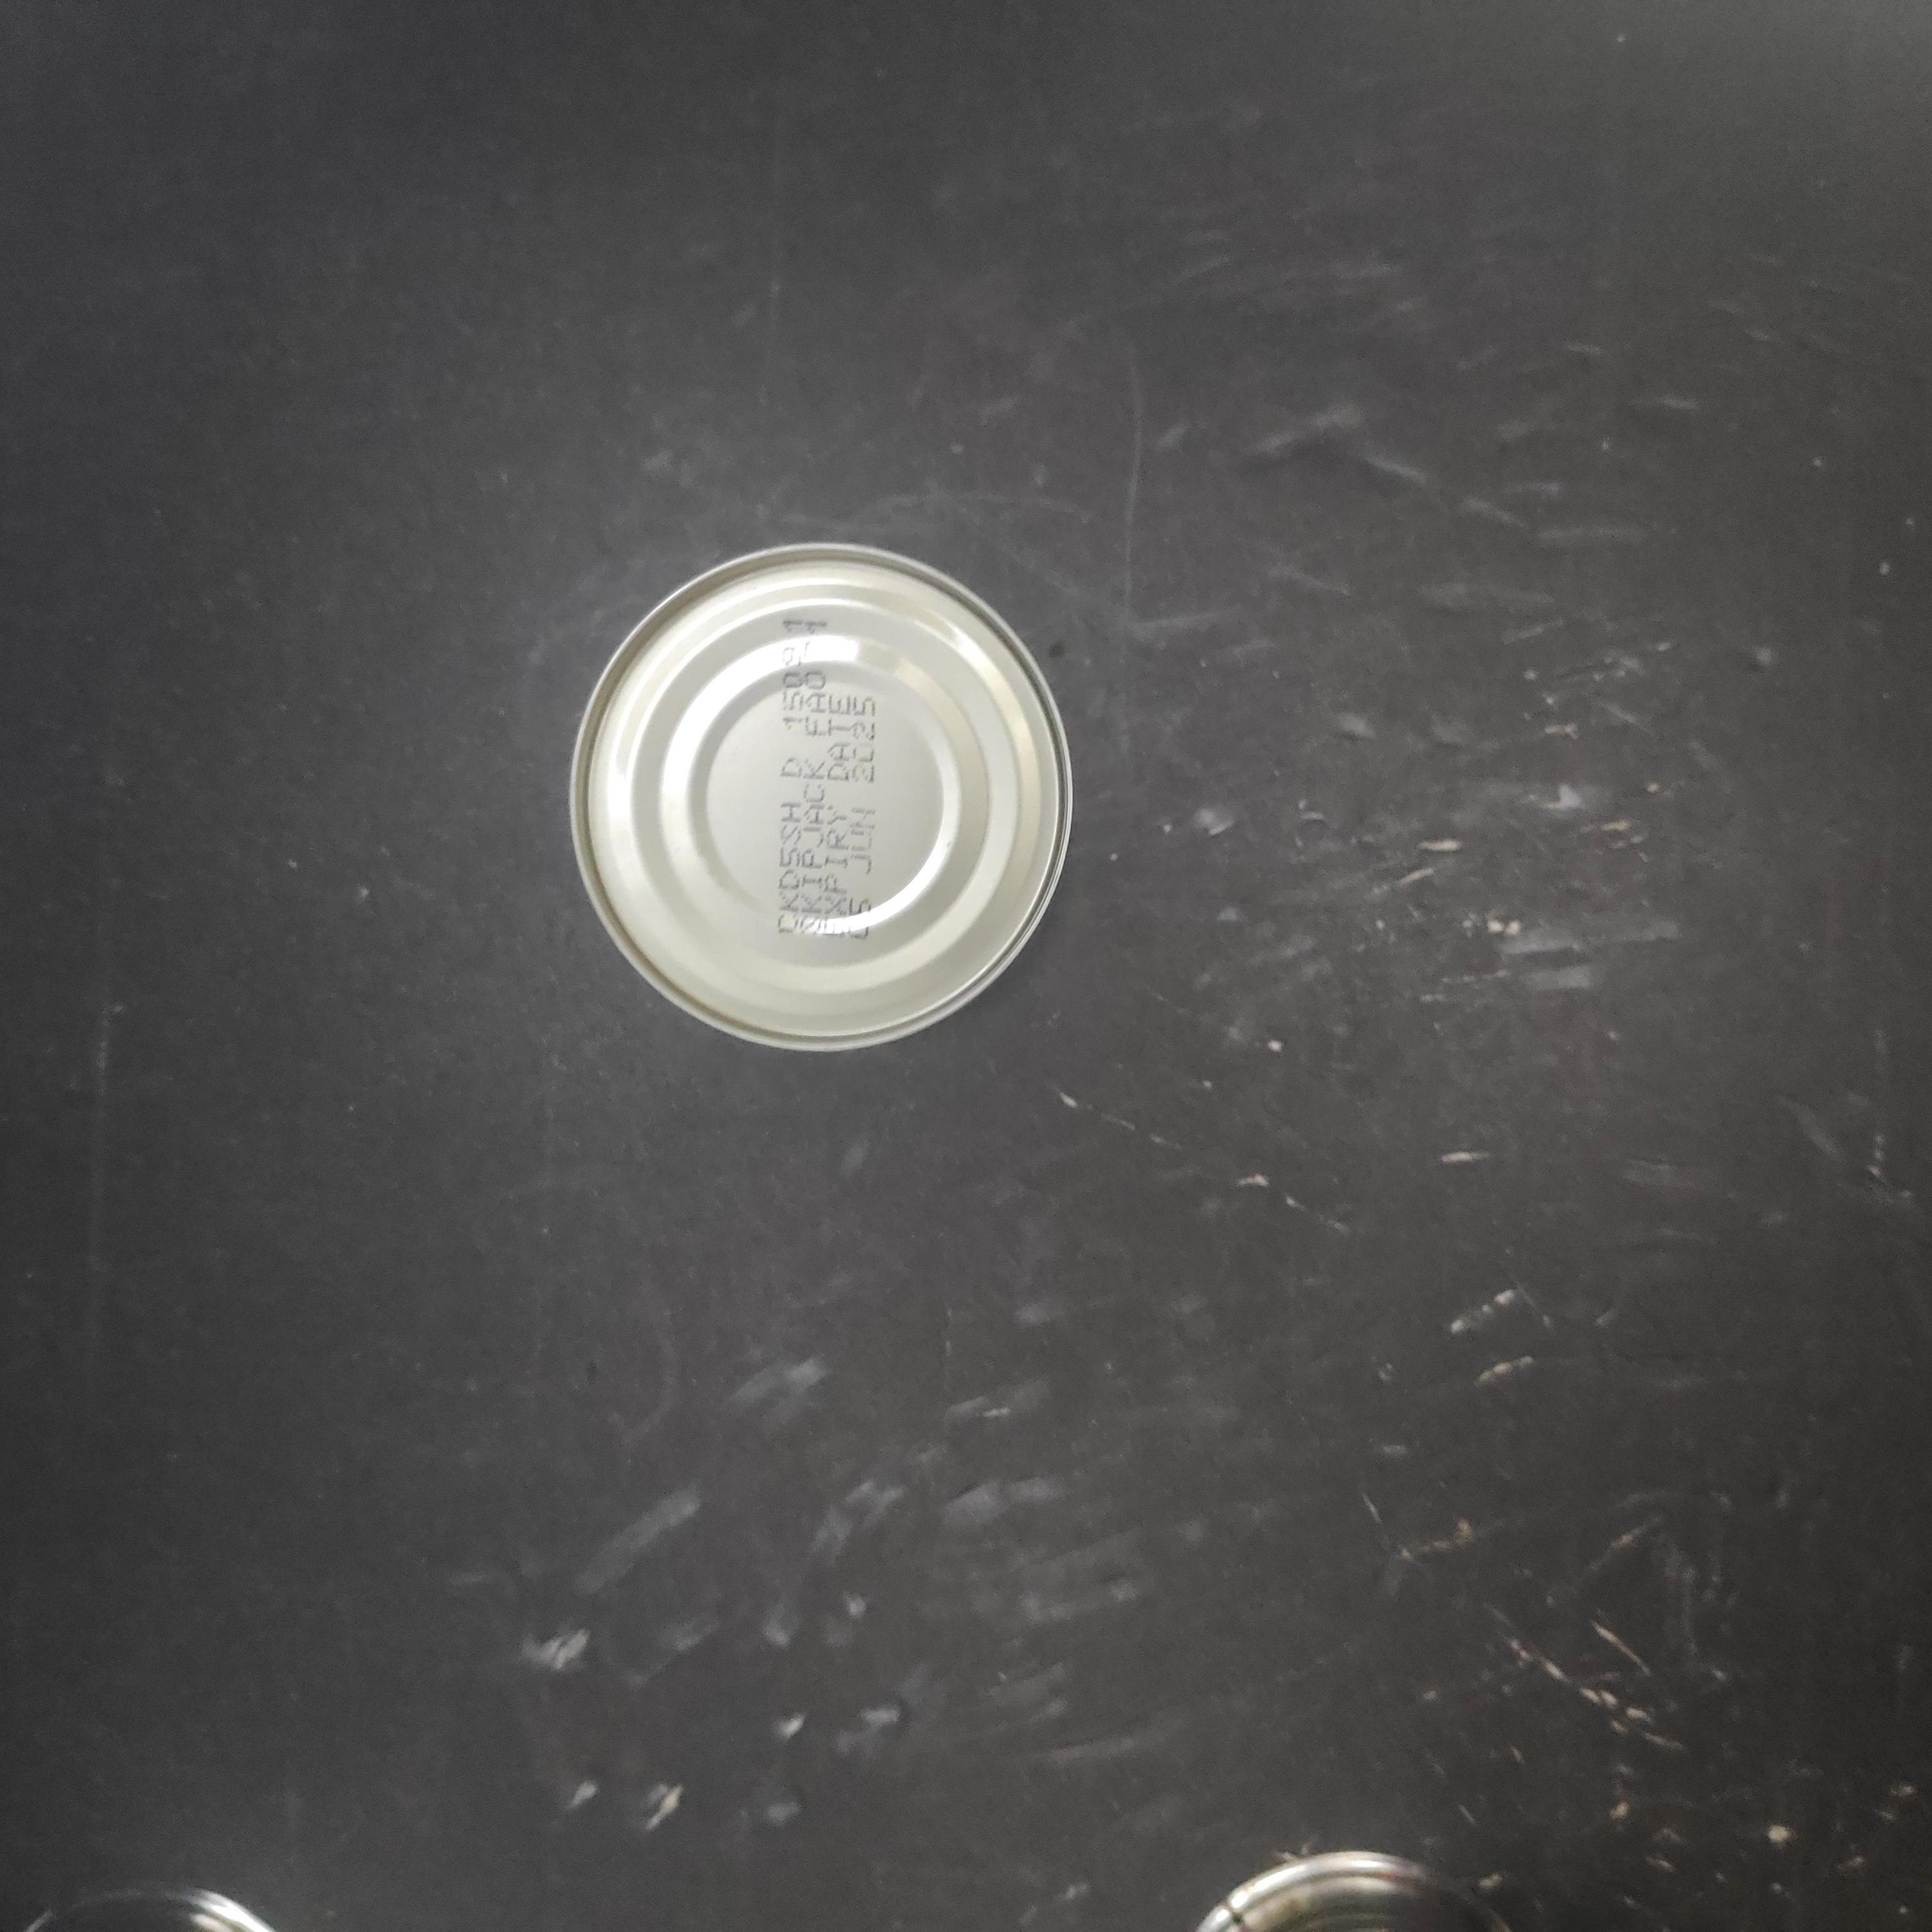No defect: (855, 878, 1366, 1394)
